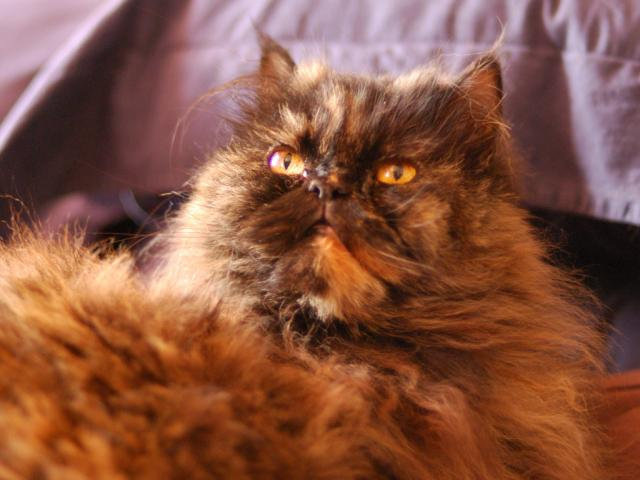Cat: (0, 21, 628, 480)
